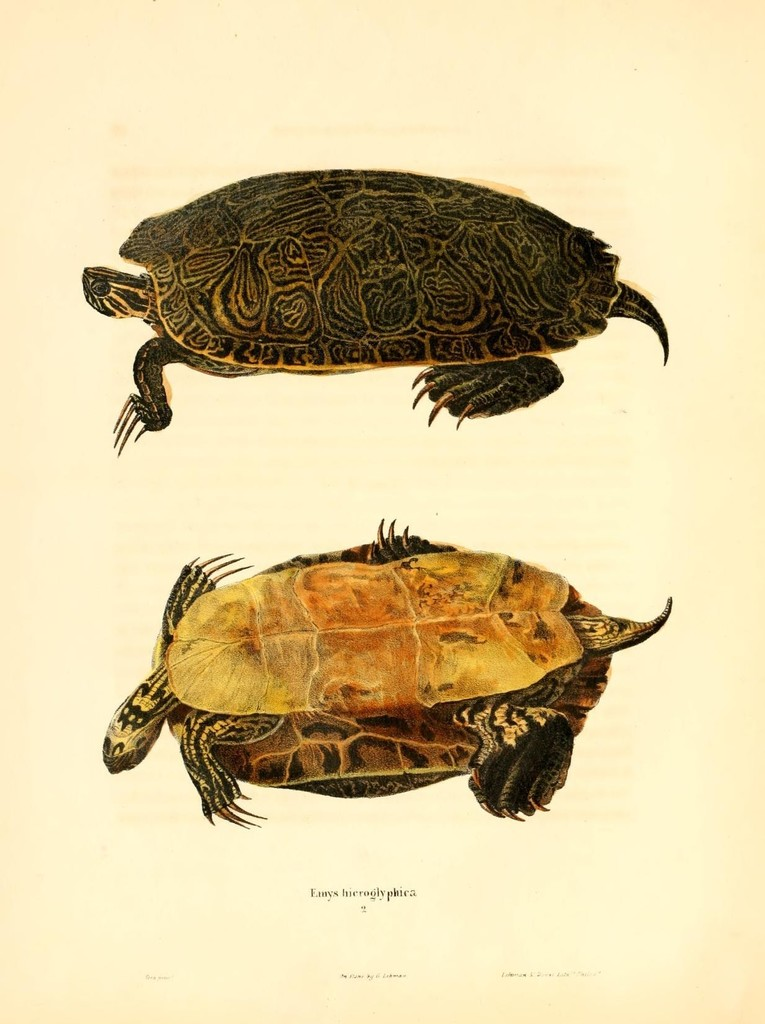Sea turtles: (99, 515, 670, 835), (78, 163, 668, 462)
